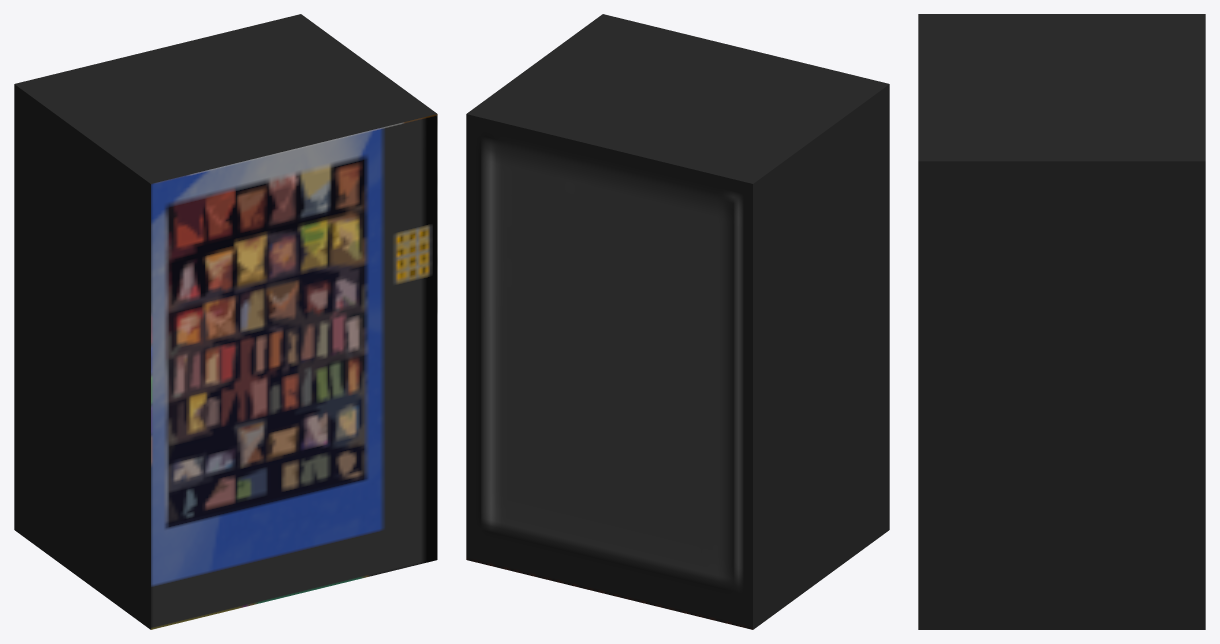
Rendered from Vending_Machine_Food.fbx.
3 renders of one model, left to right at view 1: azimuth 30°, elevation 25°; view 2: azimuth 150°, elevation 25°; view 3: azimuth 270°, elevation 25°, orthographic. The views are drawn at different scales.
Visible parts, largest first — view 1: Vending_Machine_Food_1; view 2: Vending_Machine_Food_1; view 3: Vending_Machine_Food_1.
Part boxes in pixels (x1,y1,x2,y2): Vending_Machine_Food_1: (14, 14, 437, 629); Vending_Machine_Food_1: (466, 14, 889, 629); Vending_Machine_Food_1: (918, 14, 1205, 629).
Size of the model in its own units: 181 by 269 by 149.
